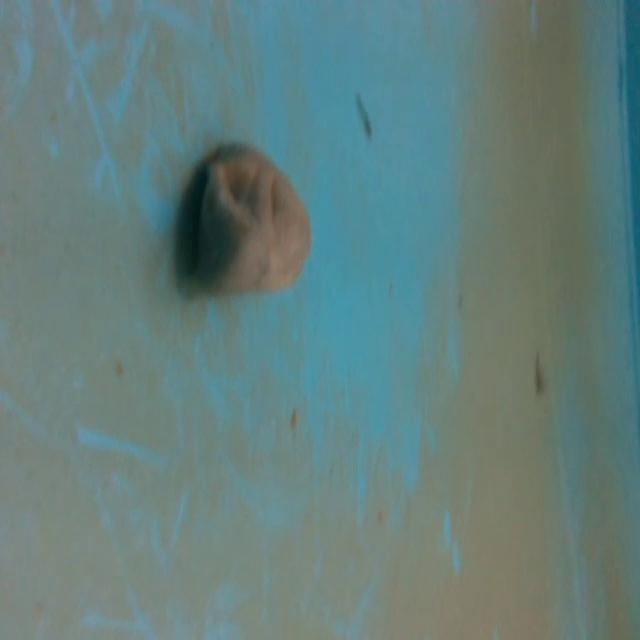rock: (175, 138, 320, 308)
